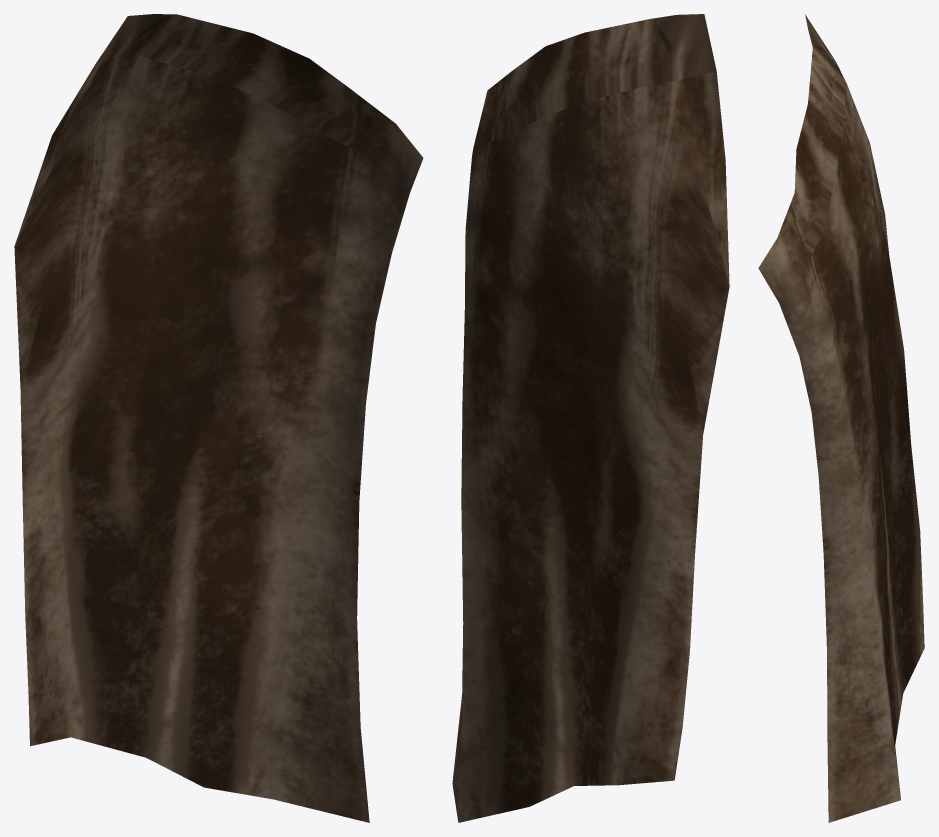
Rendered from clo_dunland_caerdh_cape_short_a.fbx.
3 views of the same model, side by side, from view 1: azimuth 30°, elevation 25°; view 2: azimuth 150°, elevation 25°; view 3: azimuth 270°, elevation 25° (orthographic). The views are drawn at different scales.
Visible parts, largest first — view 1: clo_dunland_caerdh_cape_short_a; view 2: clo_dunland_caerdh_cape_short_a; view 3: clo_dunland_caerdh_cape_short_a.
Boxes of the visible parts, x1,y1,x2,y2 form: clo_dunland_caerdh_cape_short_a: (14,14,423,822); clo_dunland_caerdh_cape_short_a: (452,14,729,822); clo_dunland_caerdh_cape_short_a: (758,14,924,822).
Size of the model in its own units: 0.2873 by 0.1526 by 0.7171.
Materials: 1 (1 with a texture image).
